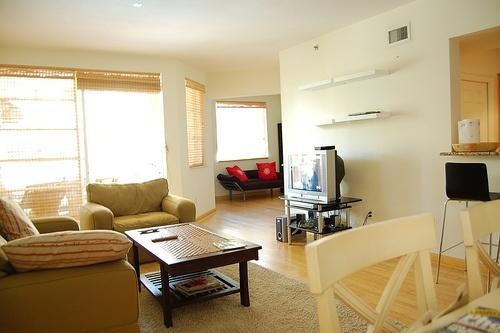chair: (306, 213, 443, 333), (81, 178, 197, 265), (436, 163, 500, 291), (461, 195, 500, 300)
sofa: (1, 193, 143, 333), (219, 163, 284, 204)
tvmonitor: (281, 149, 339, 204)
